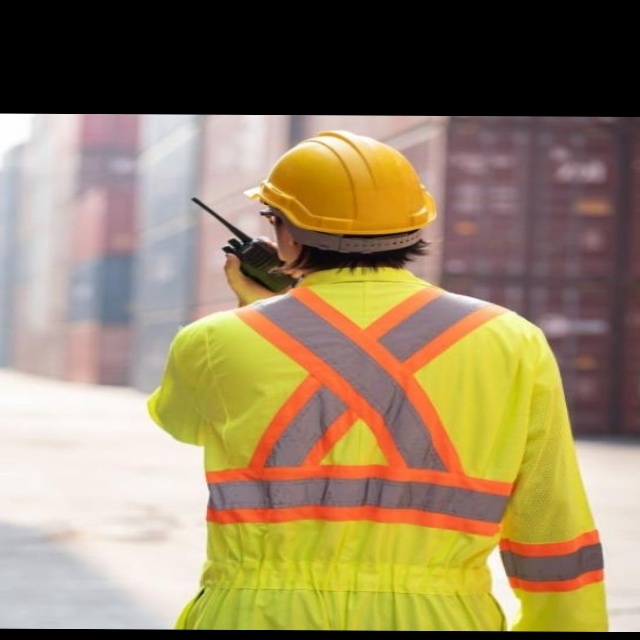Con_Casco: (244, 131, 434, 272)
Con_Chaleco: (190, 285, 543, 573)
